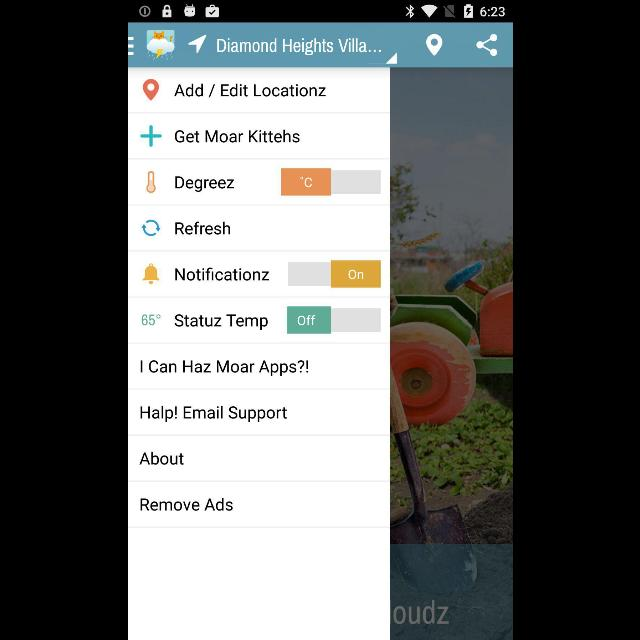icon: (475, 34, 497, 56), (140, 125, 162, 147), (141, 263, 159, 285), (426, 34, 442, 56), (142, 79, 158, 101), (140, 220, 160, 237), (188, 35, 206, 53)
image: (146, 30, 174, 60), (144, 170, 156, 193)
panel: (127, 68, 389, 640)
switch: (281, 168, 381, 196), (286, 306, 380, 334), (288, 260, 380, 288)
text: (216, 38, 382, 56), (140, 359, 308, 376), (140, 405, 286, 423), (174, 84, 326, 98), (174, 129, 300, 143), (173, 314, 267, 331), (175, 267, 269, 281), (140, 497, 232, 511), (174, 176, 233, 192), (174, 221, 230, 235), (138, 451, 184, 465), (142, 312, 160, 326)
toolbar: (128, 24, 512, 68)
uppertaskbar: (128, 1, 512, 23)
